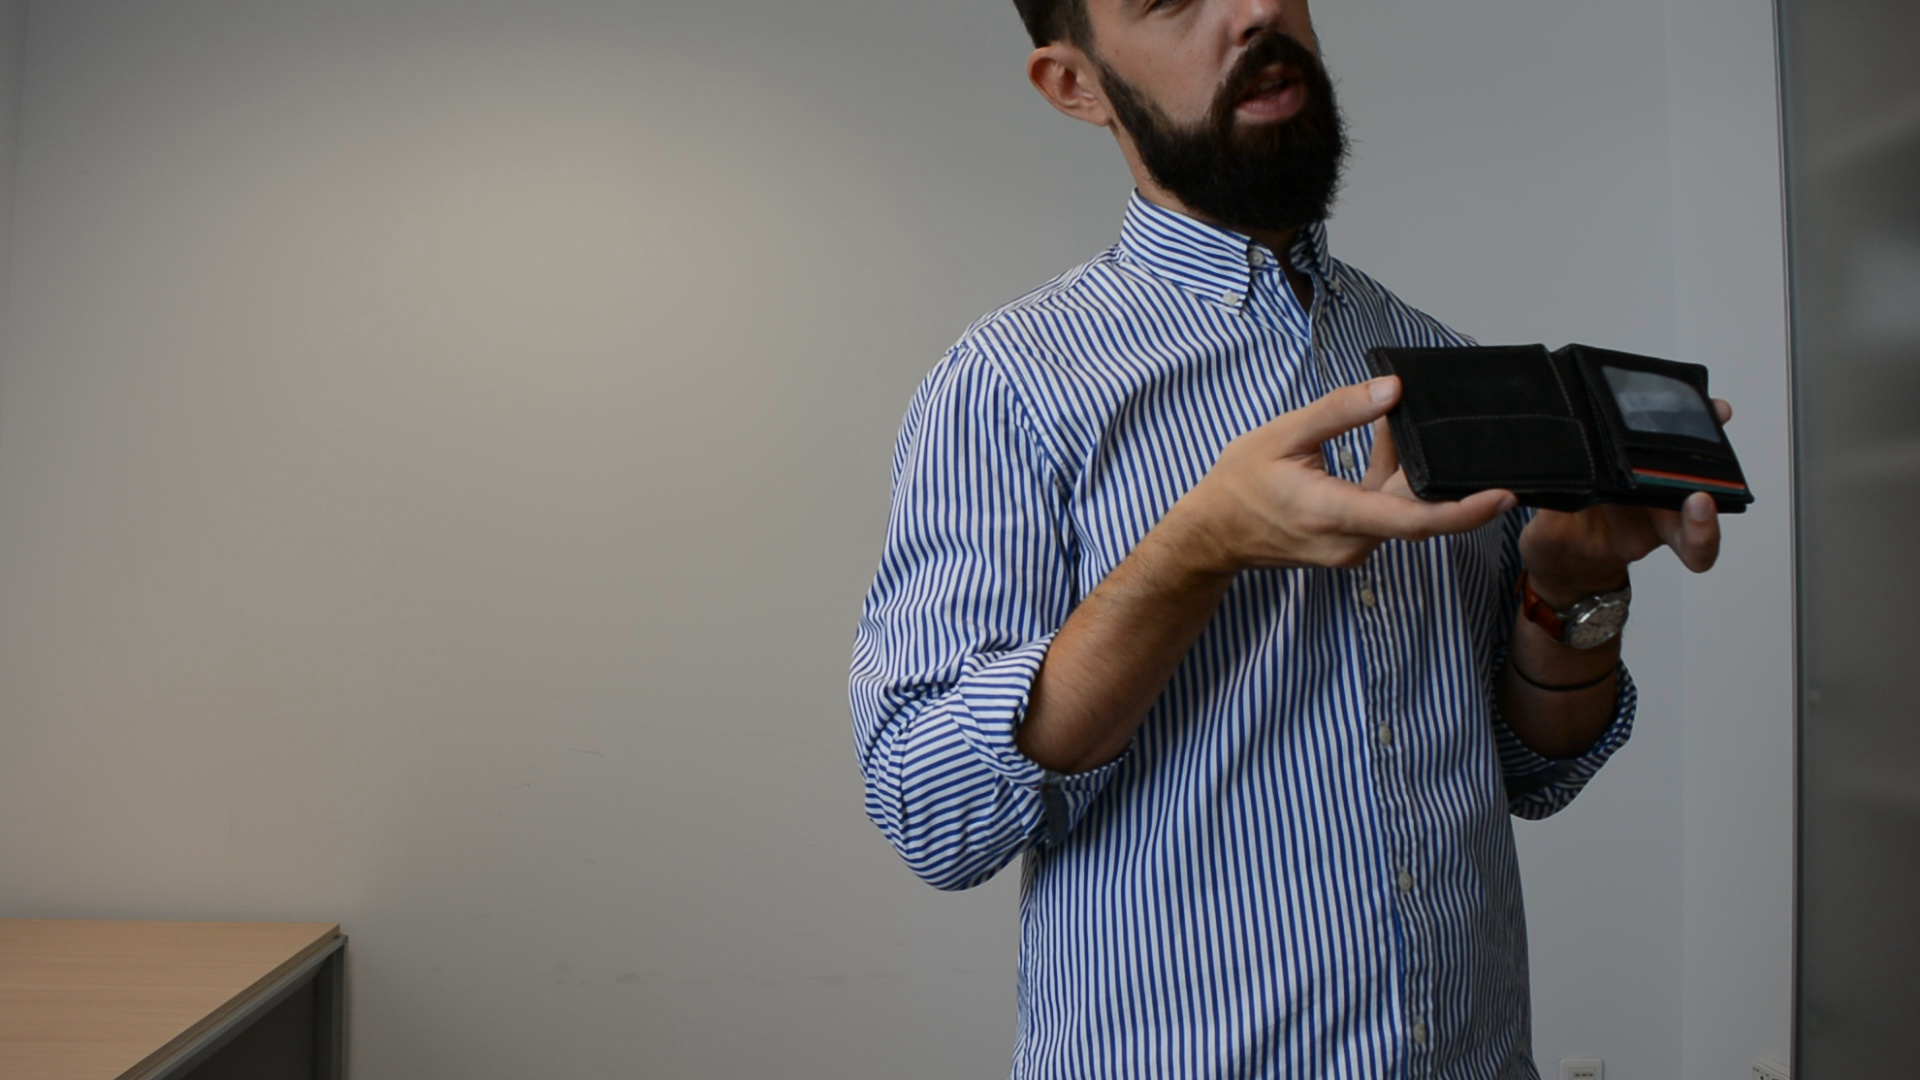monedero: (1361, 342, 1758, 517)
